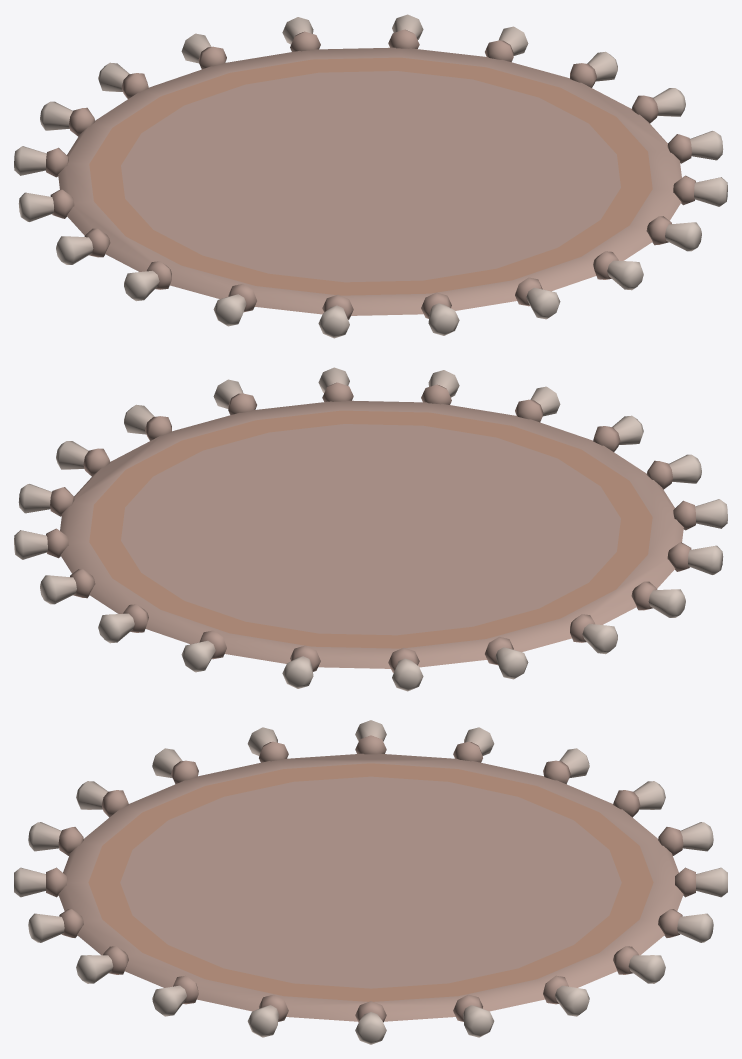
Rendered from carpet-tasseled-round.glb.
3 views of the same model, one above another, from view 1: azimuth 30°, elevation 25°; view 2: azimuth 150°, elevation 25°; view 3: azimuth 270°, elevation 25° (orthographic).
Parts seen in each view (by area): view 1: carpet-tasseled-round; view 2: carpet-tasseled-round; view 3: carpet-tasseled-round.
Part boxes in pixels (box(x1,y1,x2,y2)): carpet-tasseled-round: box(14, 14, 727, 338); carpet-tasseled-round: box(14, 367, 727, 691); carpet-tasseled-round: box(14, 720, 727, 1044).
Size of the model in its own units: 2.27 by 0.101 by 2.27.
